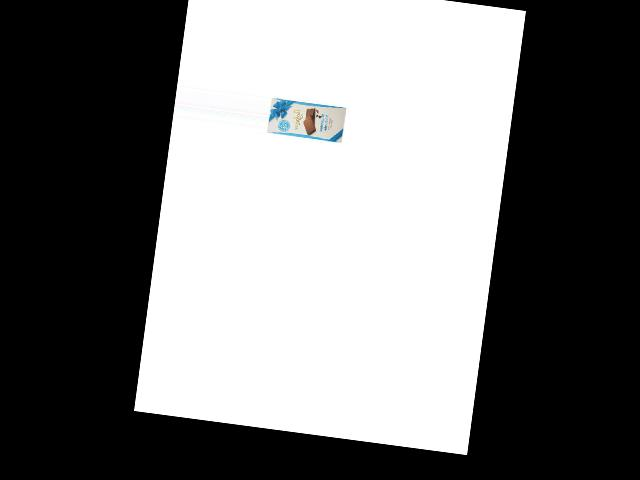chocolate: (265, 92, 348, 146)
